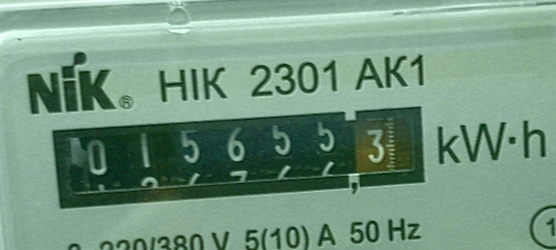0: (81, 134, 109, 176)
1: (133, 129, 154, 169)
3: (363, 126, 385, 163)
5: (175, 127, 202, 164), (268, 122, 293, 155), (315, 119, 335, 152)
6: (222, 125, 247, 162)
screen: (36, 85, 441, 225)
